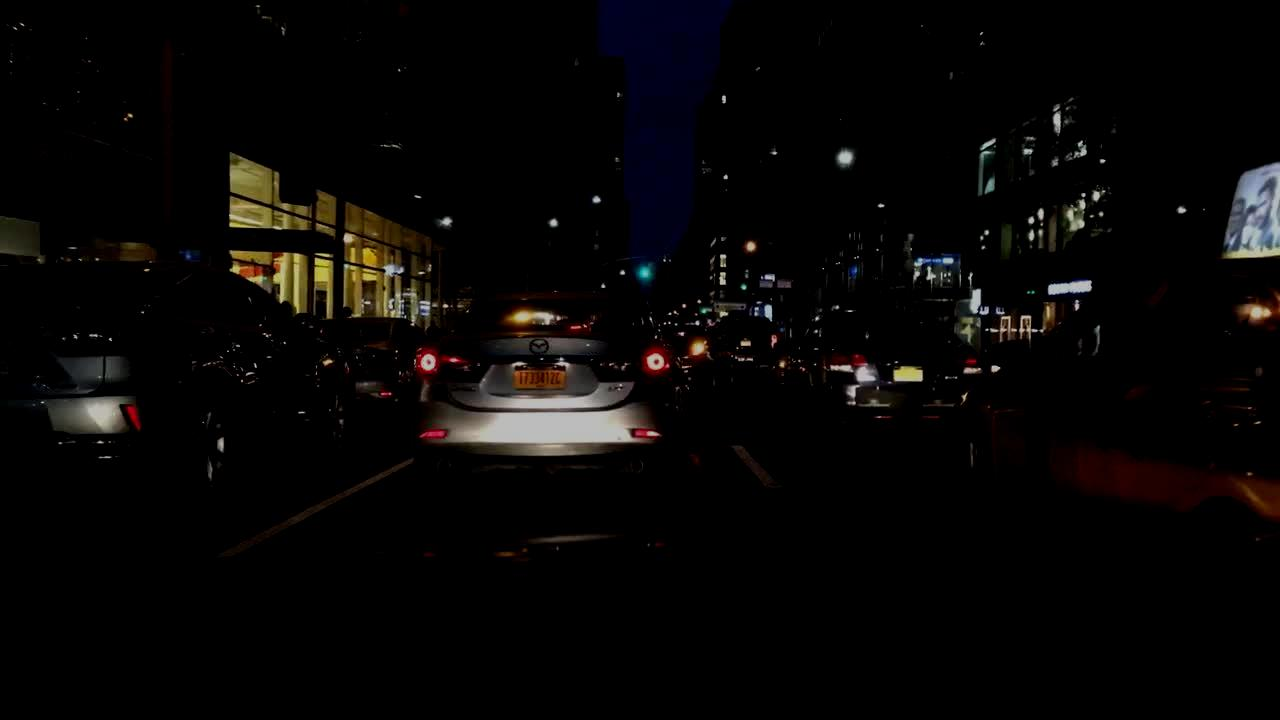Mazda: (526, 336, 555, 358)
